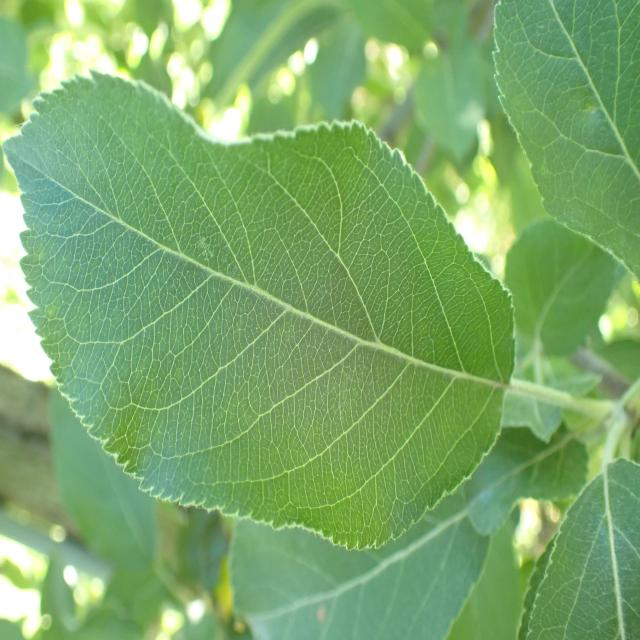healthy: (4, 68, 515, 551), (228, 445, 496, 640), (490, 0, 640, 284), (518, 457, 640, 640)
